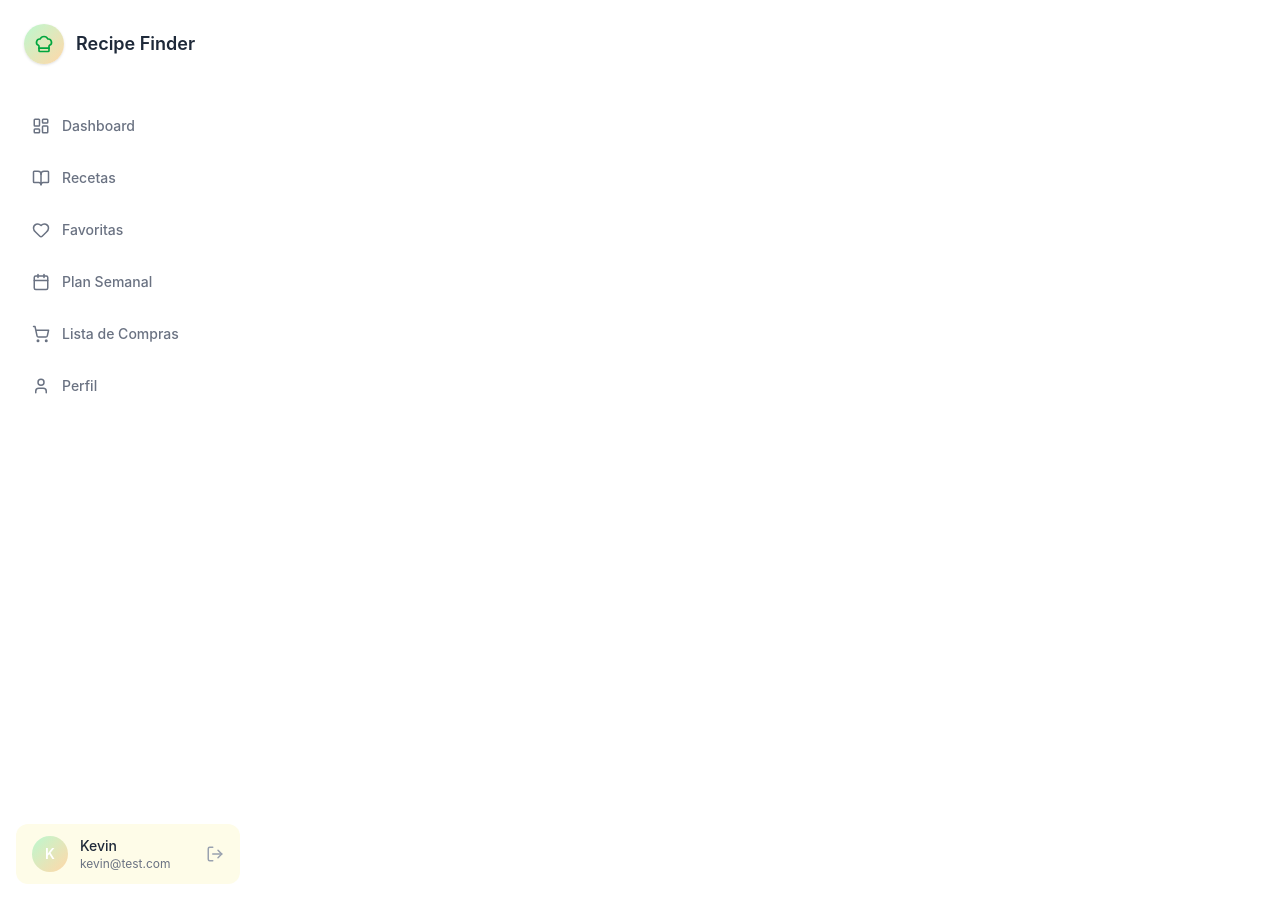
Sidebar › should open signout modal
Click the button named "logout" at (215, 854), box [206,845,224,863]
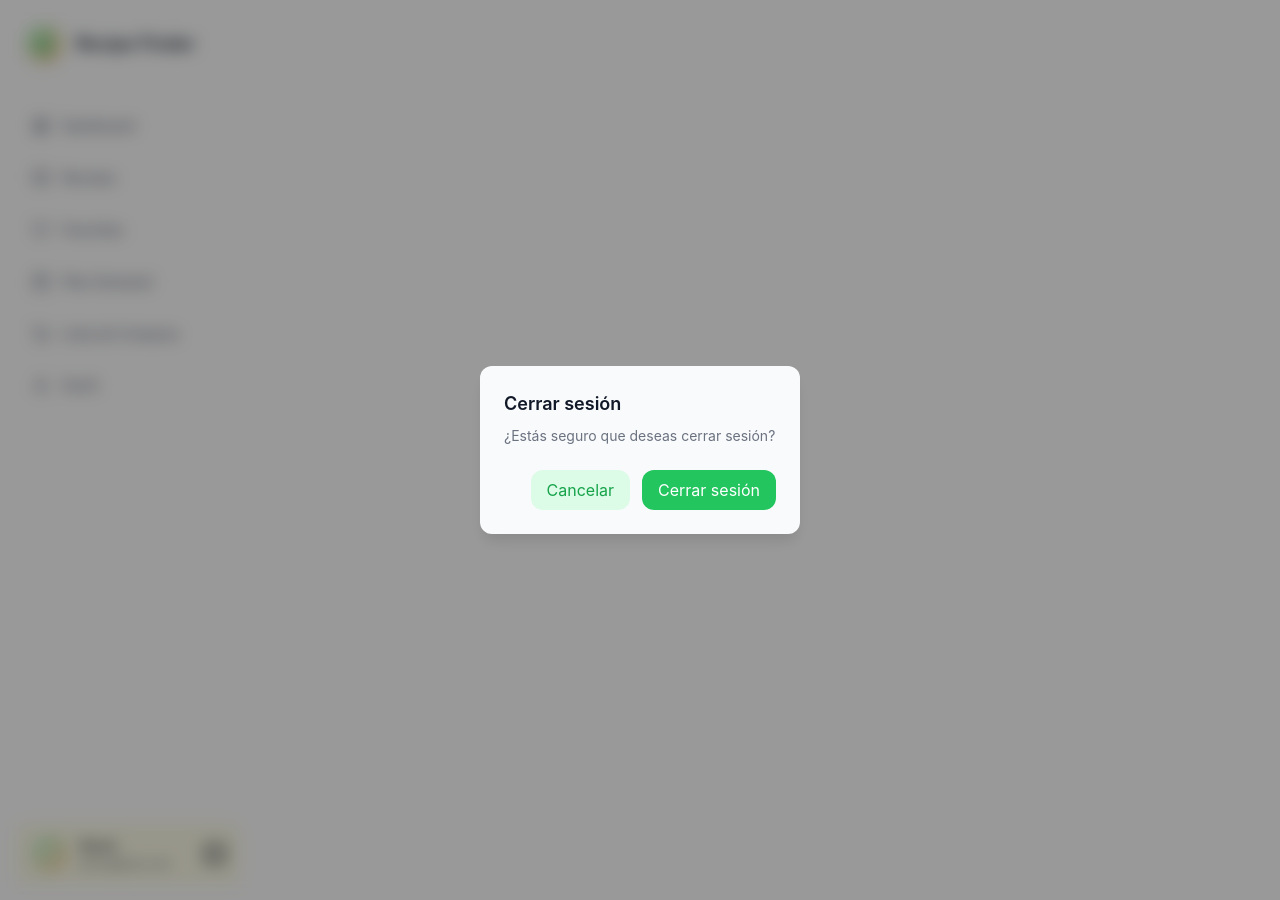
Result: the button "Cerrar sesión" is shown at [642,470,776,510]
